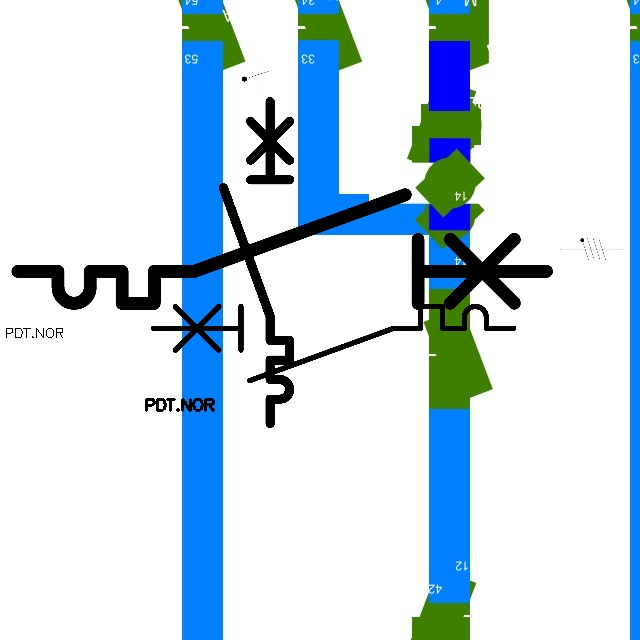interruptor_termomagnetico: (4, 181, 560, 317), (144, 297, 523, 389), (215, 93, 298, 431)
